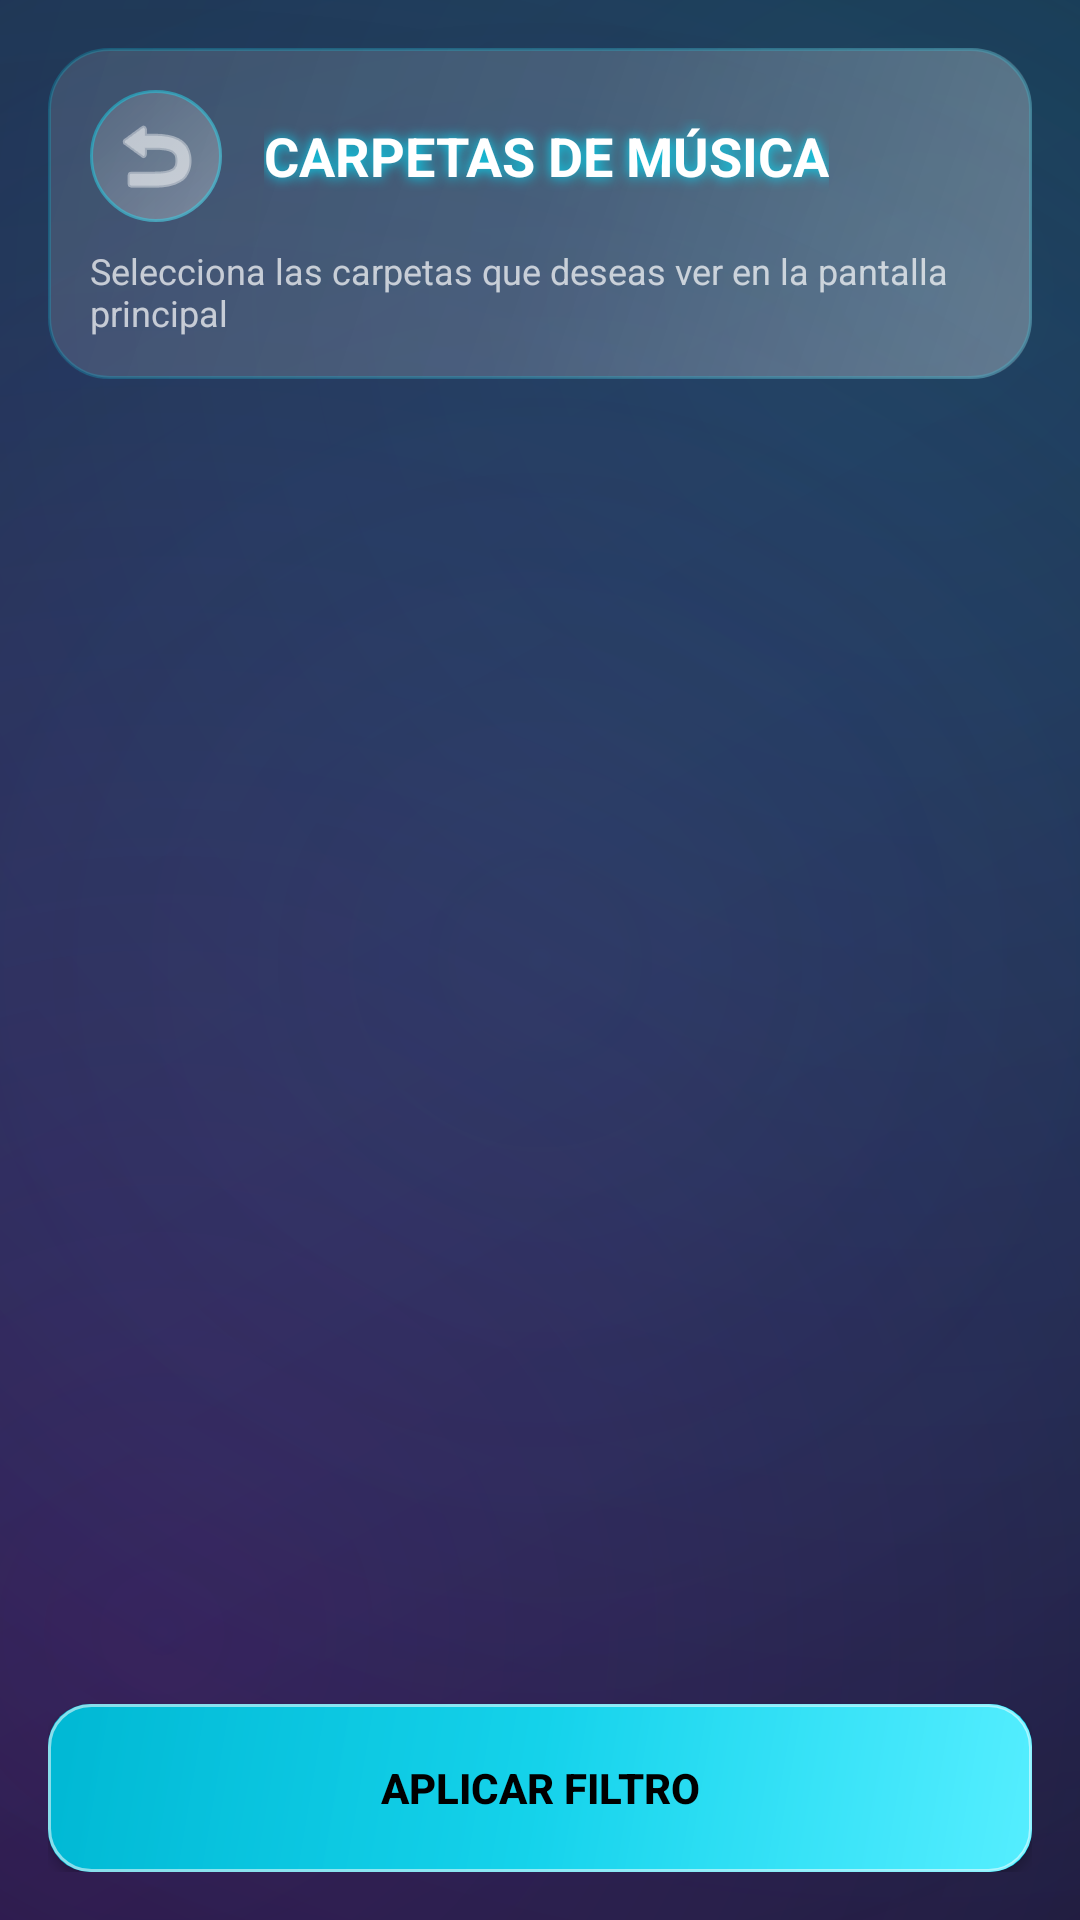

Icons on this 1080px x 1920px Android screen, each with the point to tap as point (x, y):
revert: point (156, 156)
